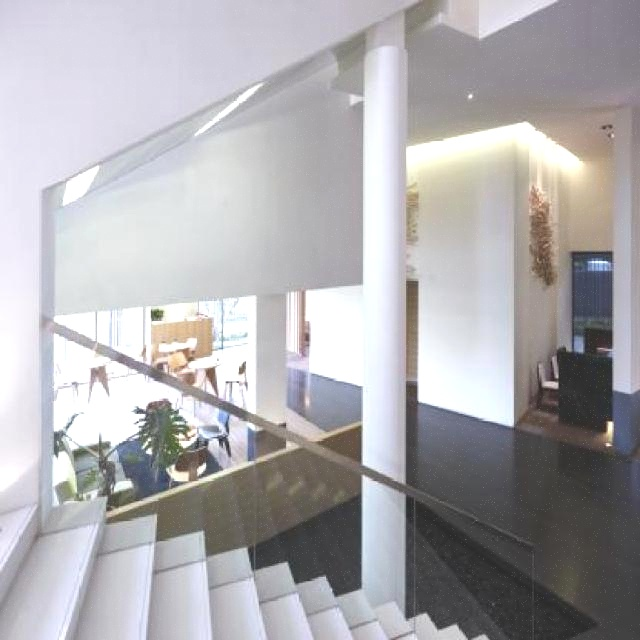stair: (0, 494, 493, 640)
